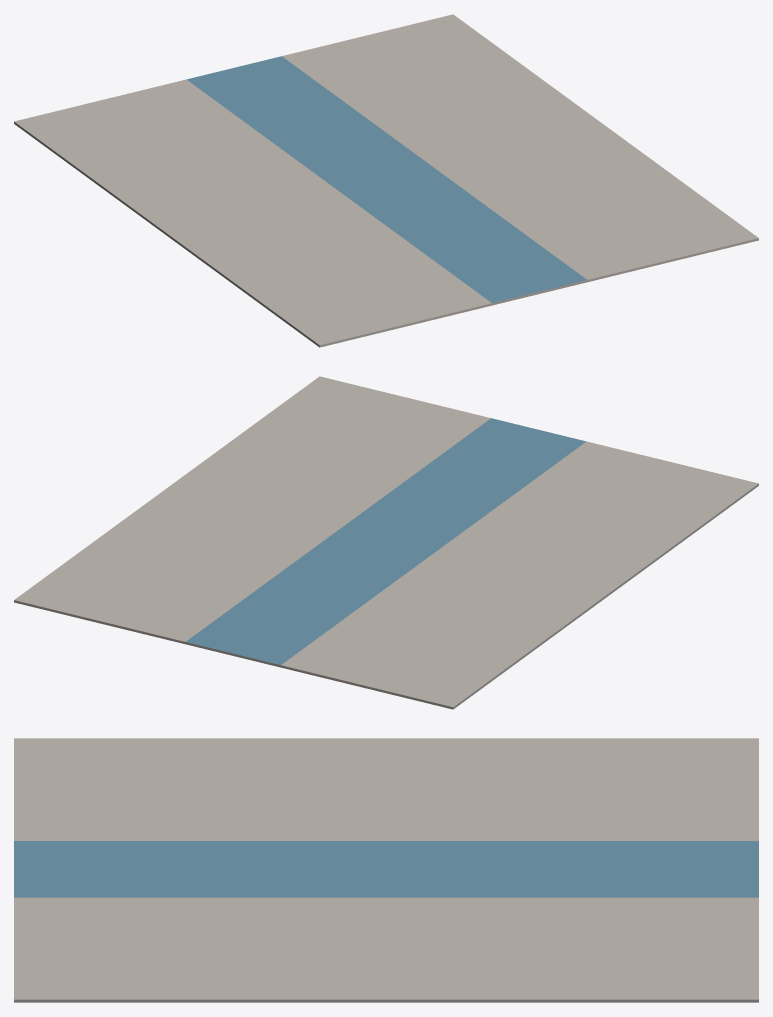
Rendered from F11_Floor.fbx.
The picture shows the model from 3 angles, top to bottom: view 1: azimuth 30°, elevation 25°; view 2: azimuth 150°, elevation 25°; view 3: azimuth 270°, elevation 25°; orthographic projection. The views are drawn at different scales.
Visible parts, largest first — view 1: Floor; view 2: Floor; view 3: Floor.
Part boxes in pixels (x1,y1,x2,y2): Floor: (14,14,758,347); Floor: (14,376,758,709); Floor: (14,738,758,1002).
Size of the model in its own units: 27.85 by 0.1436 by 33.57.
